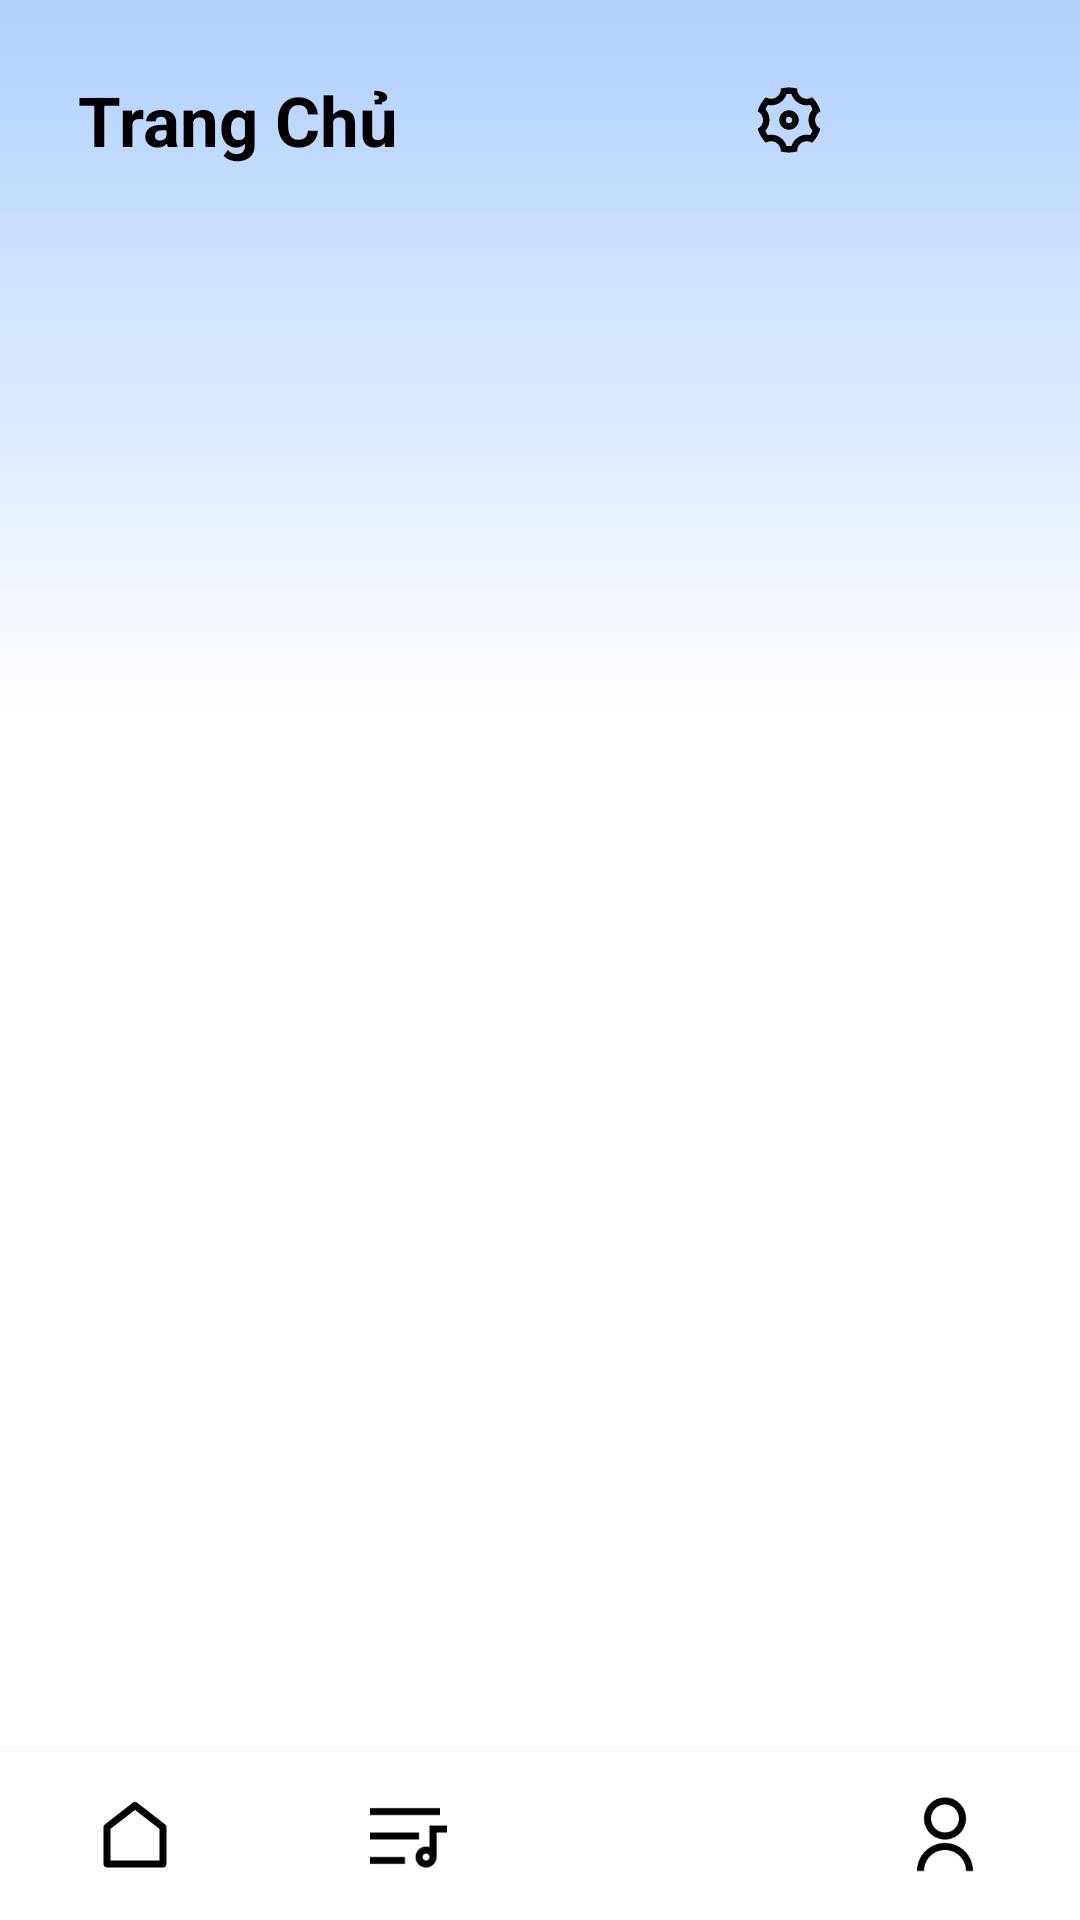

Where icons sit on this 1080w x 1920h app screen, as (x1, y1, x2, y2):
setting: (757, 87, 821, 153)
